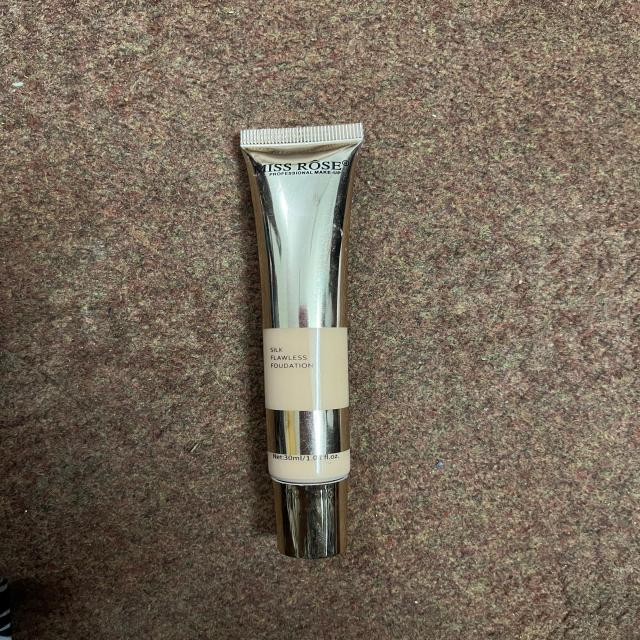foundation: (215, 109, 406, 578)
